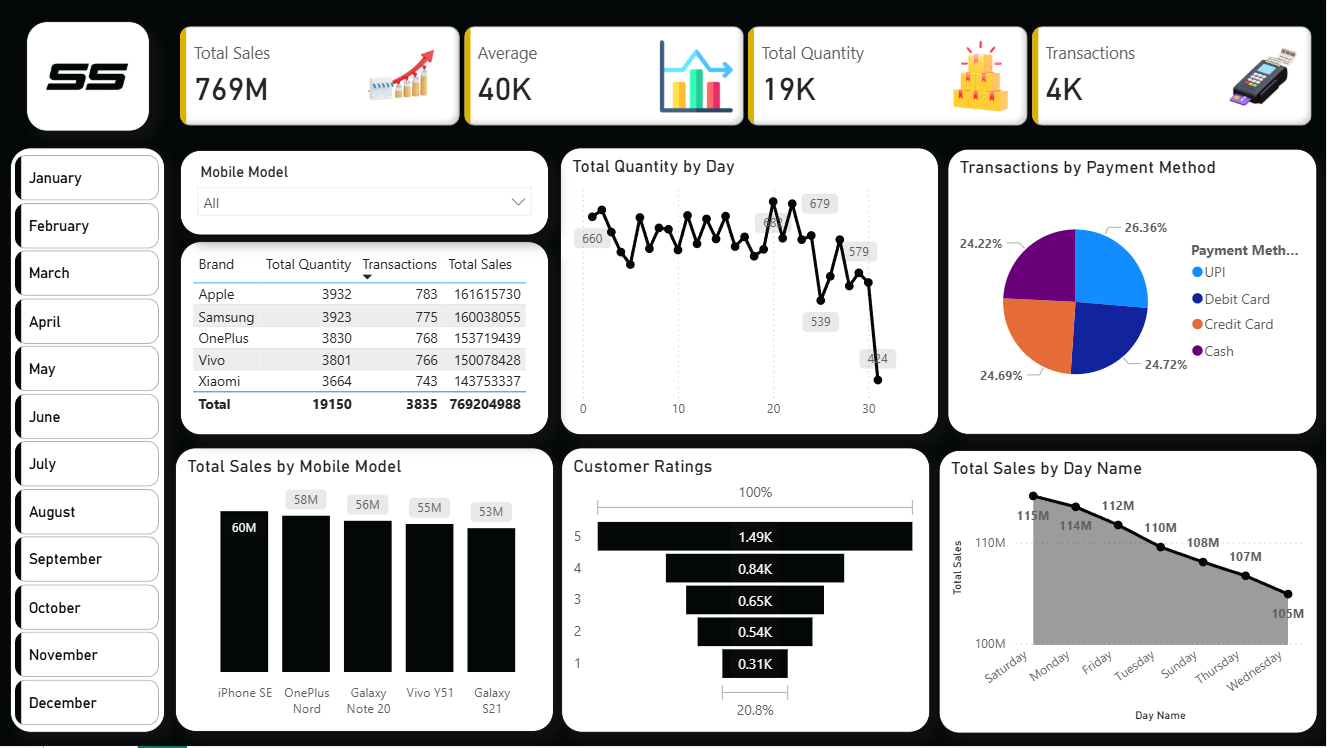

This screenshot's page, from the dashboard's own definition file:
{"tool":"powerbi","page":{"name":"Page 1","canvas":[1280,720],"ordinal":0},"visuals":[{"type":"shape","box":[25.3,20.3,119,106.3],"z":0},{"type":"image","box":[31.6,25.3,105.1,97.5],"z":1000},{"type":"shape","box":[10.1,141.8,149.4,564.6],"z":2000},{"type":"advancedSlicerVisual","fields":{"Values":["sales_data.Date.Variation.Date Hierarchy.Month"]},"box":[10.1,144.3,149.4,562],"z":3000},{"type":"cardVisual","fields":{"Data":["sales_data.Total Sales","sales_data.Average","sales_data.Total Quantity","sales_data.Transactions"]},"box":[168.4,20.3,1102.5,106.3],"z":5000},{"type":"lineChart","fields":{"Y":["sales_data.Total Quantity"],"Category":["sales_data.Date.Variation.Date Hierarchy.Month","sales_data.Date.Variation.Date Hierarchy.Day"]},"box":[540.5,142.4,365.6,277.5],"z":6000},{"type":"columnChart","fields":{"Category":["sales_data.Mobile Model"],"Y":["sales_data.Total Sales"]},"box":[168.4,431.6,365.8,274.7],"z":7000},{"type":"pieChart","fields":{"Category":["sales_data.Payment Method"],"Y":["sales_data.Transactions"]},"box":[914.5,143.6,357.1,276.3],"z":8000},{"type":"funnel","title":"Customer Ratings","fields":{"Category":["sales_data.Customer Ratings"],"Y":["CountNonNull(sales_data.Customer Ratings)"]},"box":[541.7,431.9,355.9,275.1],"z":9000},{"type":"areaChart","fields":{"Category":["sales_data.Day Name"],"Y":["sales_data.Total Sales"]},"box":[906,434.3,365.6,273.9],"z":10000},{"type":"tableEx","fields":{"Values":["sales_data.Brand","sales_data.Total Quantity","sales_data.Transactions","sales_data.Total Sales"]},"box":[173.7,232.8,355.9,187],"z":11000},{"type":"slicer","fields":{"Values":["sales_data.Mobile Model"]},"box":[173.7,144.8,355.9,82],"z":12000}]}

Visuals, with their boxes in screenshot pixels (x1, y1, x2, y2), scaled from the page's 1280x720 canvas onto the 1327x748 screenshot:
shape: x1=26, y1=21, x2=150, y2=132
image: x1=33, y1=26, x2=142, y2=128
shape: x1=10, y1=147, x2=165, y2=734
advancedSlicerVisual - sales_data.Date.Variation.Date Hierarchy.Month: x1=10, y1=150, x2=165, y2=734
cardVisual - sales_data.Total Sales x sales_data.Average: x1=175, y1=21, x2=1318, y2=132
lineChart - sales_data.Total Quantity x sales_data.Date.Variation.Date Hierarchy.Month: x1=560, y1=148, x2=939, y2=436
columnChart - sales_data.Mobile Model x sales_data.Total Sales: x1=175, y1=448, x2=554, y2=734
pieChart - sales_data.Payment Method x sales_data.Transactions: x1=948, y1=149, x2=1318, y2=436
"Customer Ratings" funnel: x1=562, y1=449, x2=931, y2=734
areaChart - sales_data.Day Name x sales_data.Total Sales: x1=939, y1=451, x2=1318, y2=736
tableEx - sales_data.Brand x sales_data.Total Quantity: x1=180, y1=242, x2=549, y2=436
slicer - sales_data.Mobile Model: x1=180, y1=150, x2=549, y2=236
